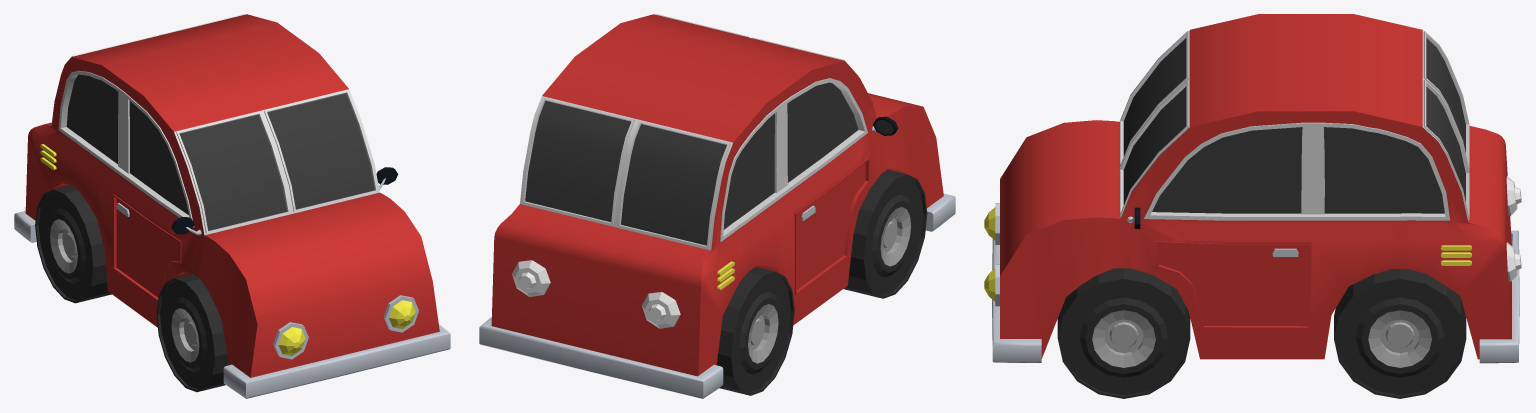
Rendered from civil-car-C.fbx.
3 views of the same model, side by side, from view 1: azimuth 30°, elevation 25°; view 2: azimuth 150°, elevation 25°; view 3: azimuth 270°, elevation 25° (orthographic). The views are drawn at different scales.
Parts seen in each view (by area): view 1: civil-car-C, civil-car-C-rear-wheels, civil-car-C-front-wheels; view 2: civil-car-C, civil-car-C-front-wheels, civil-car-C-rear-wheels; view 3: civil-car-C, civil-car-C-rear-wheels, civil-car-C-front-wheels.
Part boxes in pixels (x1=…): civil-car-C: x1=14, y1=14, x2=450, y2=398; civil-car-C-rear-wheels: x1=35, y1=185, x2=111, y2=303; civil-car-C-front-wheels: x1=156, y1=274, x2=228, y2=392; civil-car-C: x1=479, y1=14, x2=955, y2=398; civil-car-C-front-wheels: x1=844, y1=169, x2=927, y2=298; civil-car-C-rear-wheels: x1=716, y1=267, x2=794, y2=395; civil-car-C: x1=984, y1=14, x2=1521, y2=363; civil-car-C-rear-wheels: x1=1334, y1=269, x2=1466, y2=398; civil-car-C-front-wheels: x1=1057, y1=268, x2=1190, y2=398.
Size of the model in its own units: 1.6 by 1.67 by 2.92.
